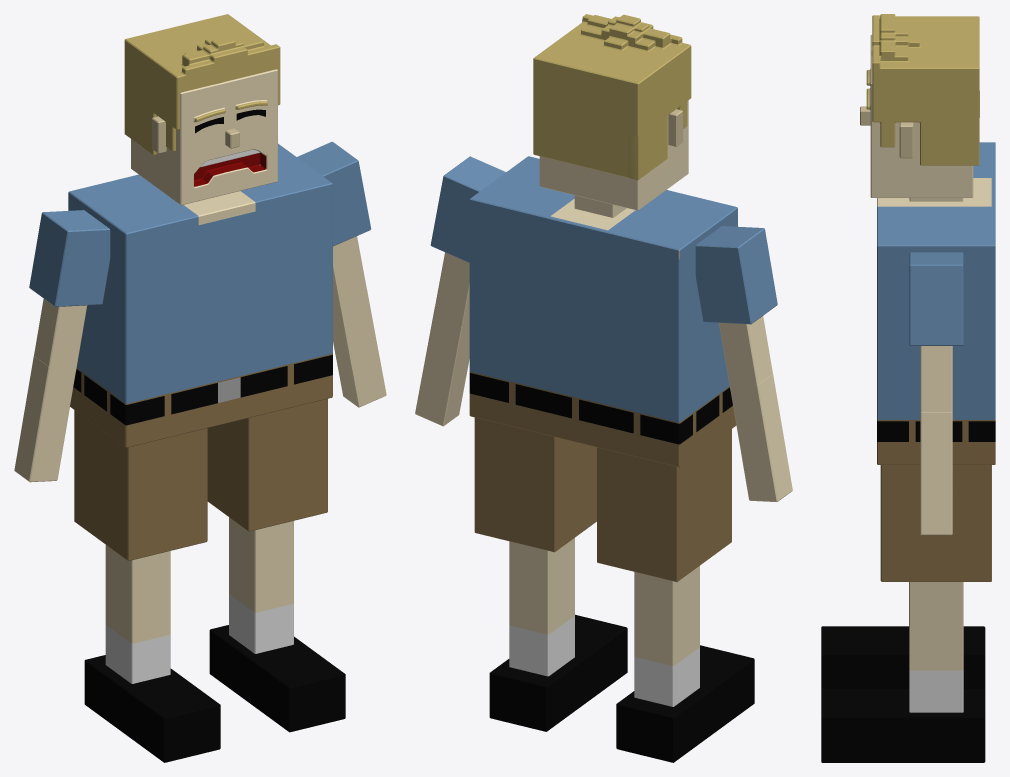
File: crying_kid_no_work_sim.fbx
The picture shows the model from 3 angles, left to right: view 1: azimuth 30°, elevation 25°; view 2: azimuth 150°, elevation 25°; view 3: azimuth 270°, elevation 25°; orthographic projection. The views are drawn at different scales.
Parts seen in each view (by area): view 1: kiddo; view 2: kiddo; view 3: kiddo.
Part boxes in pixels (bbox=[...]): kiddo: bbox=[14, 14, 386, 762]; kiddo: bbox=[415, 14, 792, 762]; kiddo: bbox=[821, 14, 995, 762].
Bounding box in the file's own units: 53.91 × 97.48 × 22.26.
